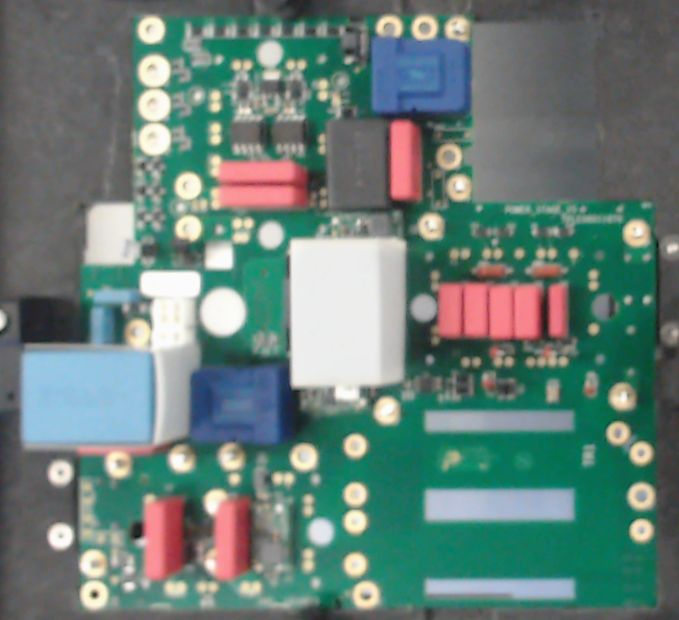comp1: (370, 35, 471, 121), (190, 368, 298, 446)
comp2: (140, 497, 185, 579), (214, 496, 252, 579), (389, 119, 423, 204), (217, 160, 310, 186), (219, 185, 311, 210), (462, 281, 489, 342), (436, 282, 464, 340), (514, 282, 541, 342), (489, 281, 515, 342), (547, 282, 571, 342)
comp3: (324, 119, 392, 210)
comp4: (20, 343, 200, 449), (289, 237, 406, 388)
